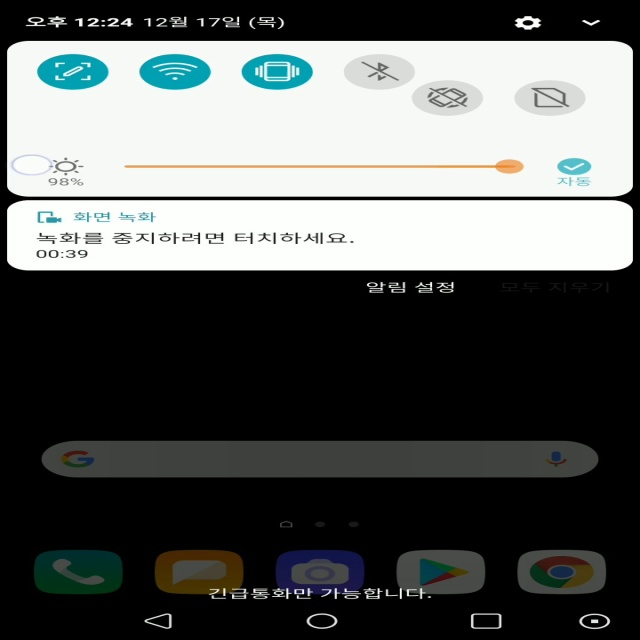Cursor: (9, 155, 54, 177)
